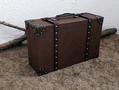shoutibox: (25, 12, 105, 73)
